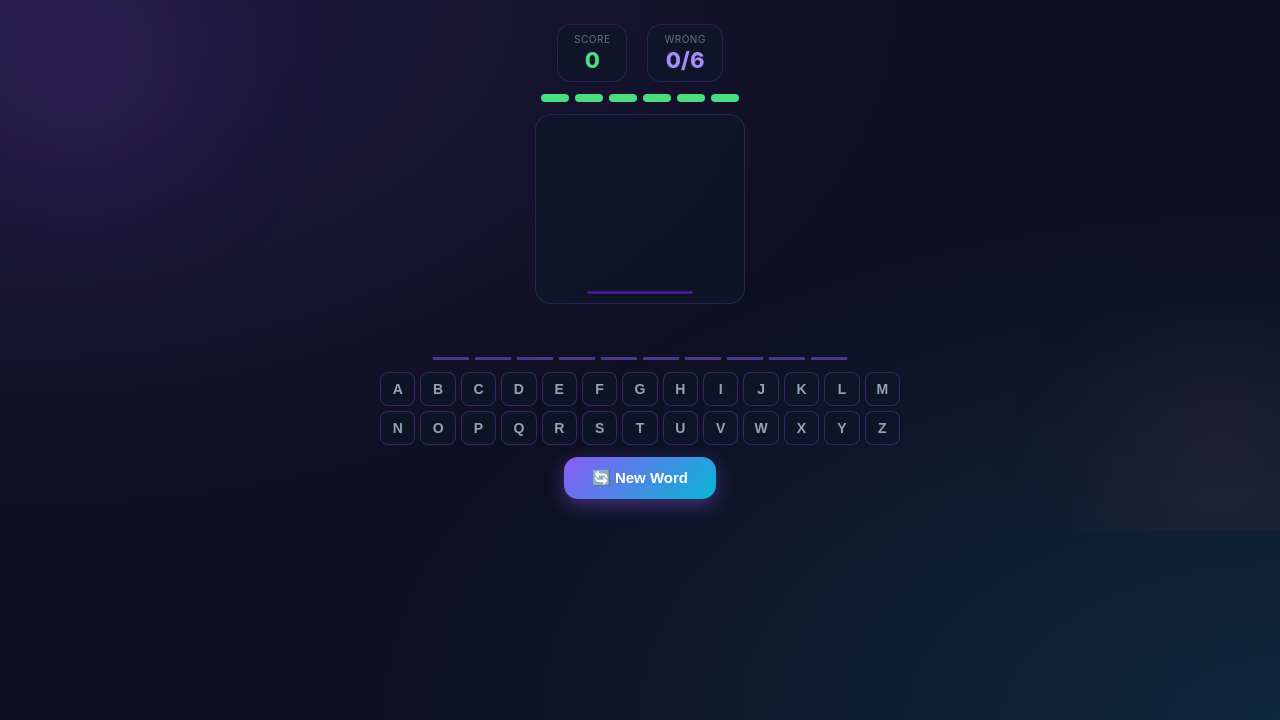
it: Hangman Component › handles a correct guess
Click the button with class "hm-key" showing "J" at (761, 389), box [744, 372, 779, 406]
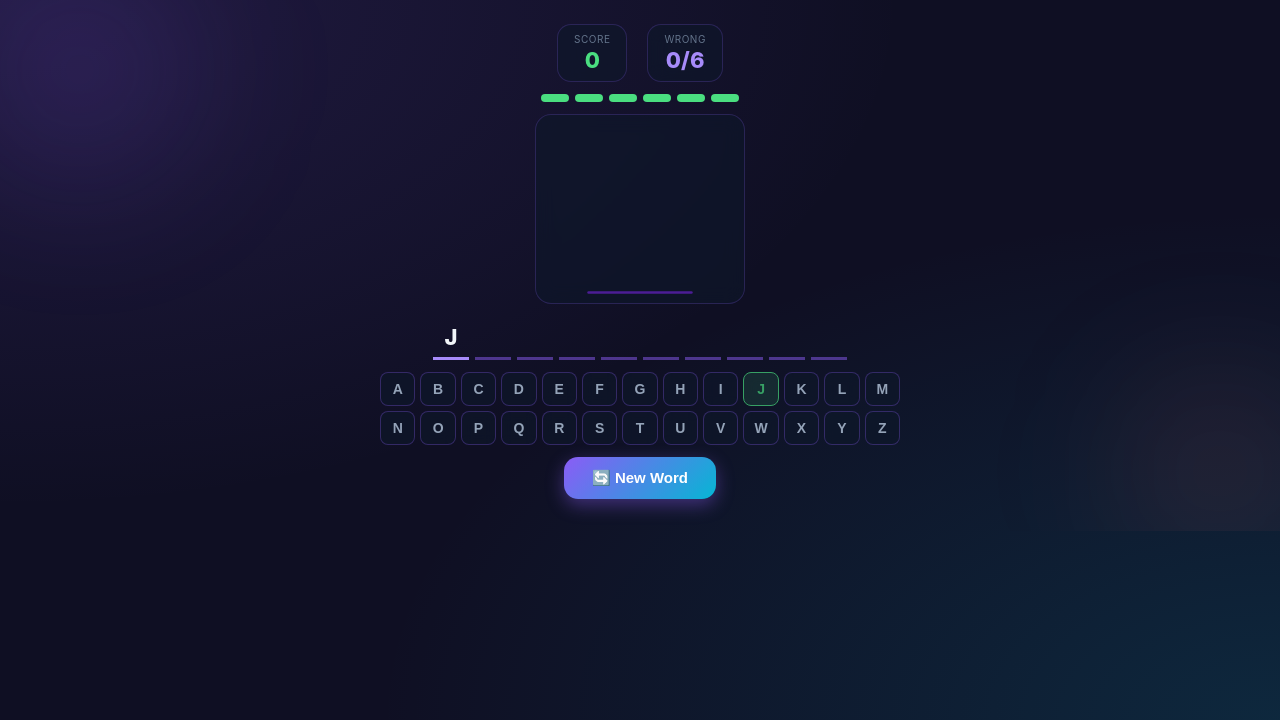
expect the text with class "hm-stat-val" reads "0/6": met, box [666, 47, 704, 73]
expect the button with class "hm-key" showing "J" is disabled: met, box [744, 372, 779, 406]
expect the element with class "hm-letter" reads "J": met, box [444, 324, 458, 350]
